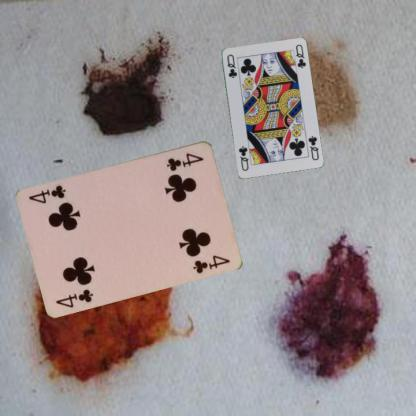4c: (53, 286, 95, 309), (164, 150, 205, 172)
Qc: (305, 133, 320, 162), (224, 52, 238, 79)
